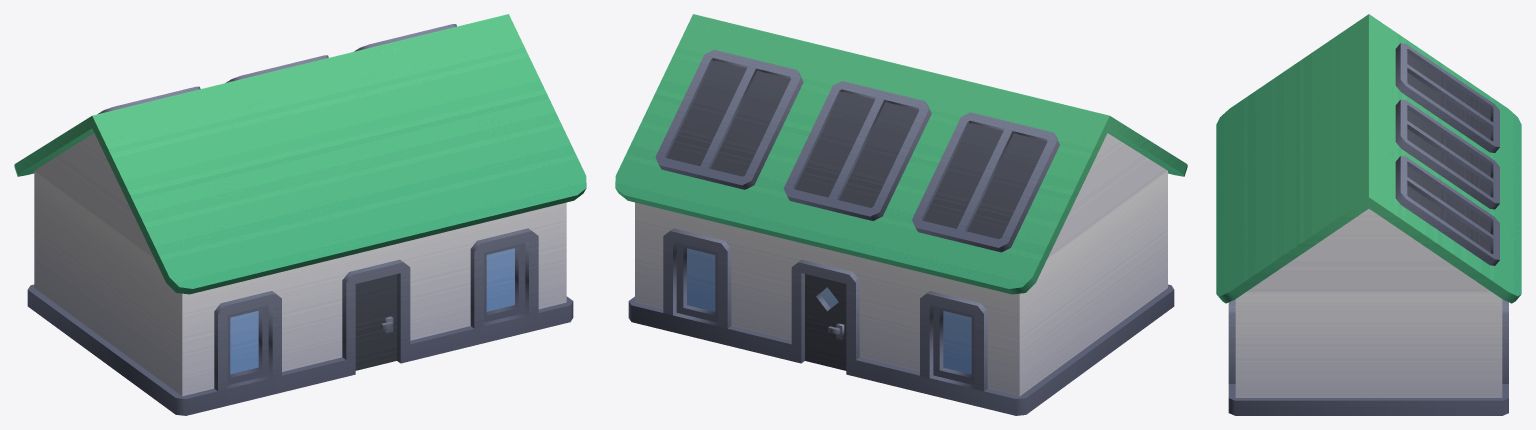
File: building-type-h.glb
3 renders of one model, left to right at view 1: azimuth 30°, elevation 25°; view 2: azimuth 150°, elevation 25°; view 3: azimuth 270°, elevation 25°, orthographic. The views are drawn at different scales.
Visible parts, largest first — view 1: building-type-h; view 2: building-type-h; view 3: building-type-h.
Boxes of the visible parts, x1=… form: building-type-h: x1=14, y1=14, x2=586, y2=415; building-type-h: x1=615, y1=14, x2=1187, y2=415; building-type-h: x1=1216, y1=14, x2=1521, y2=415.
Bounding box in the file's own units: 1.3 × 0.7373 × 0.9158.
Materials: 1 (1 with a texture image).
